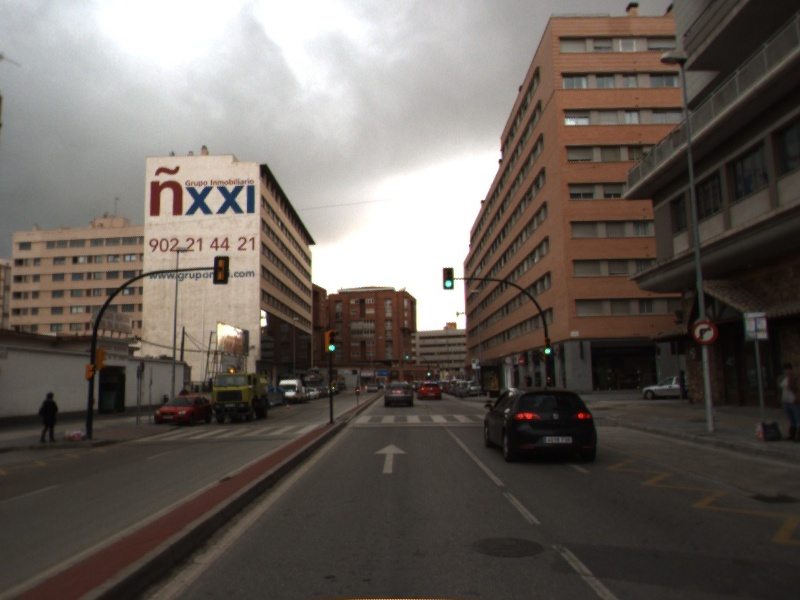STRAIGHT: (372, 441, 409, 476)
